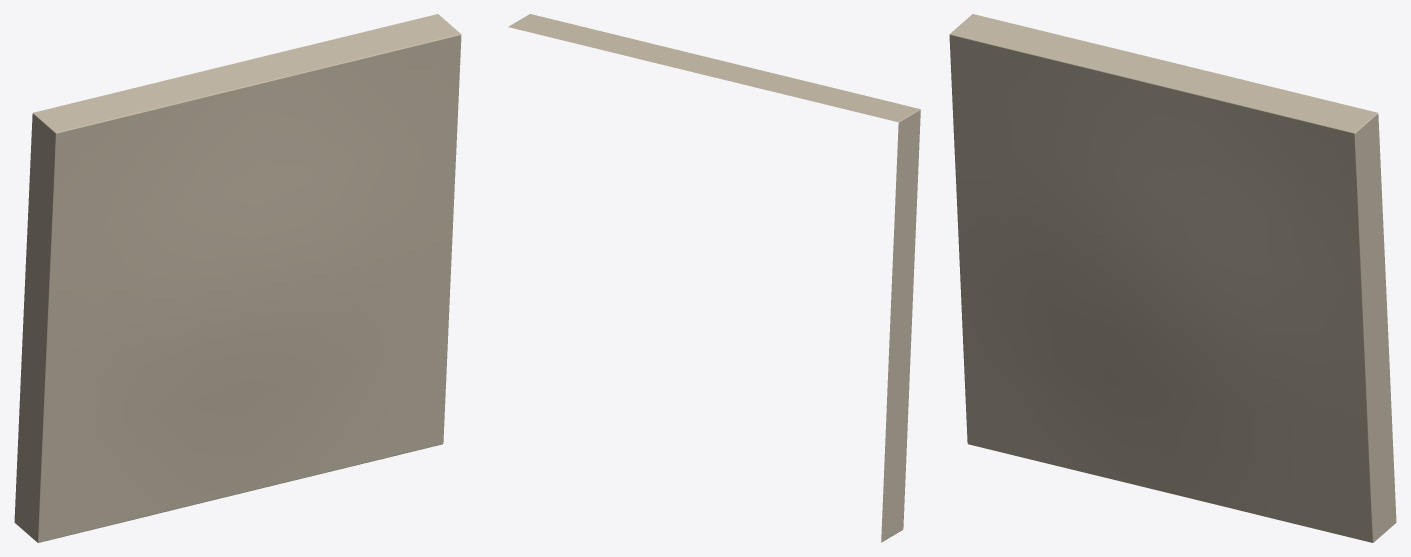
The model's file is cream.glb.
The picture shows the model from 3 angles, left to right: view 1: azimuth 30°, elevation 25°; view 2: azimuth 150°, elevation 25°; view 3: azimuth 330°, elevation 25°; orthographic projection. The views are drawn at different scales.
Parts seen in each view (by area): view 1: Object010; view 2: Object010; view 3: Object010.
Boxes of the visible parts, left/top/right/bottom form: Object010: left=14, top=14, right=461, bottom=542; Object010: left=508, top=14, right=920, bottom=542; Object010: left=949, top=14, right=1396, bottom=542.
Bounding box in the file's own units: 0.0528 × 0.053 × 0.00936.
